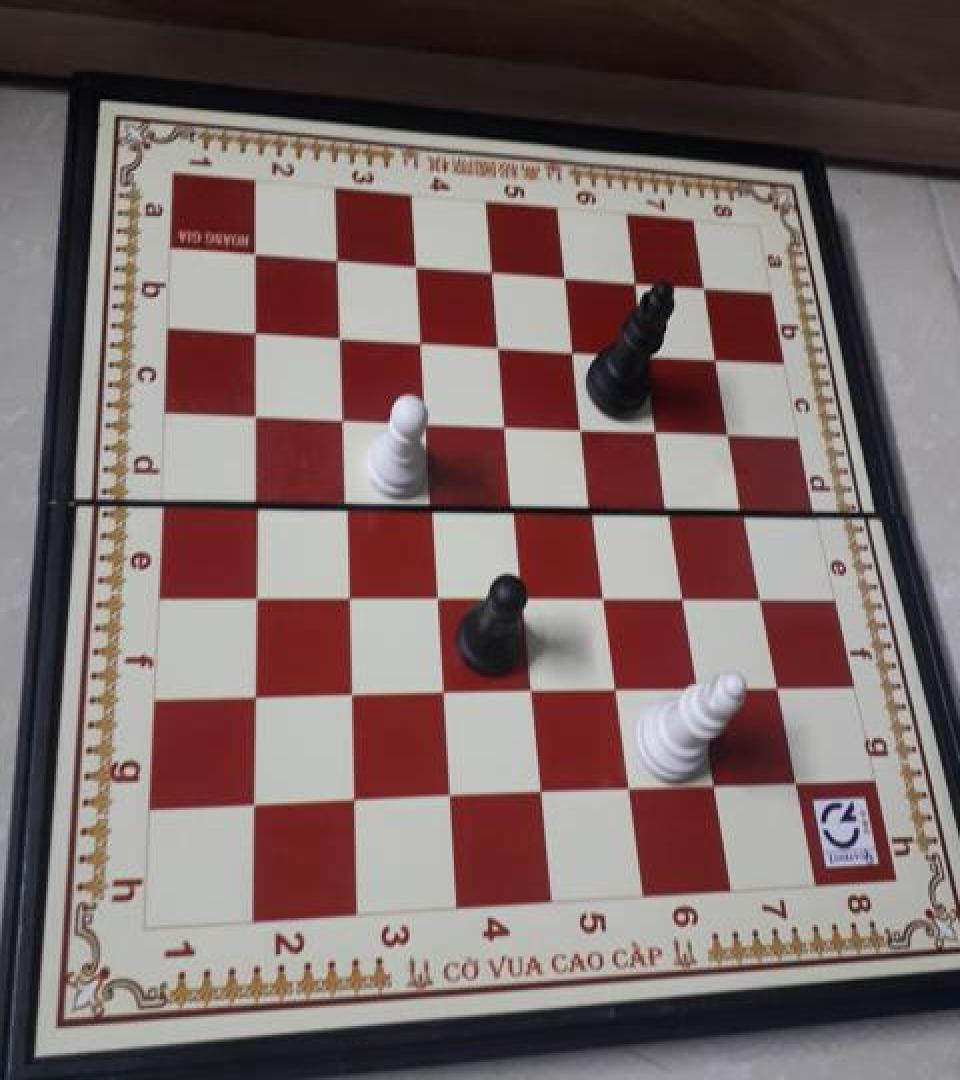xcorner: (602, 669, 634, 706), (615, 769, 647, 806), (434, 777, 466, 814), (621, 262, 653, 298), (550, 258, 582, 294), (476, 252, 508, 288), (400, 246, 432, 282), (322, 241, 354, 277), (240, 235, 272, 271), (703, 338, 735, 374), (632, 333, 664, 369), (559, 330, 591, 366), (483, 325, 515, 361), (405, 320, 437, 356), (324, 316, 356, 352), (240, 312, 272, 348), (717, 412, 749, 448), (644, 410, 676, 446), (569, 406, 601, 442), (491, 404, 523, 440), (410, 400, 442, 436), (326, 397, 358, 433), (240, 394, 272, 430), (732, 492, 764, 528), (657, 490, 689, 526), (579, 488, 611, 524), (499, 487, 531, 523), (415, 485, 447, 521), (329, 484, 361, 520), (240, 482, 272, 518), (747, 576, 779, 612), (670, 576, 702, 612), (590, 576, 622, 612), (507, 576, 539, 612), (421, 576, 453, 612), (332, 575, 364, 611), (239, 575, 271, 611), (764, 666, 796, 702), (685, 667, 717, 703), (517, 670, 549, 706), (428, 673, 460, 709), (335, 675, 367, 711), (239, 676, 271, 712), (782, 763, 814, 799), (700, 766, 732, 802), (527, 773, 559, 809), (339, 781, 371, 817), (239, 785, 271, 821), (690, 267, 722, 302)
